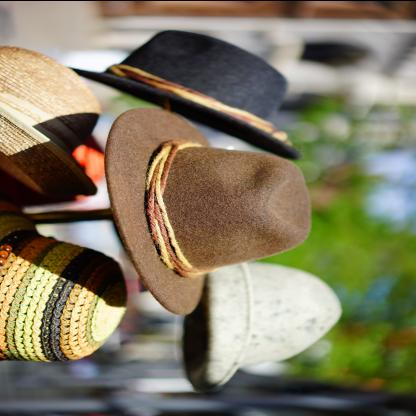hat: (101, 104, 315, 317), (66, 27, 304, 167)
